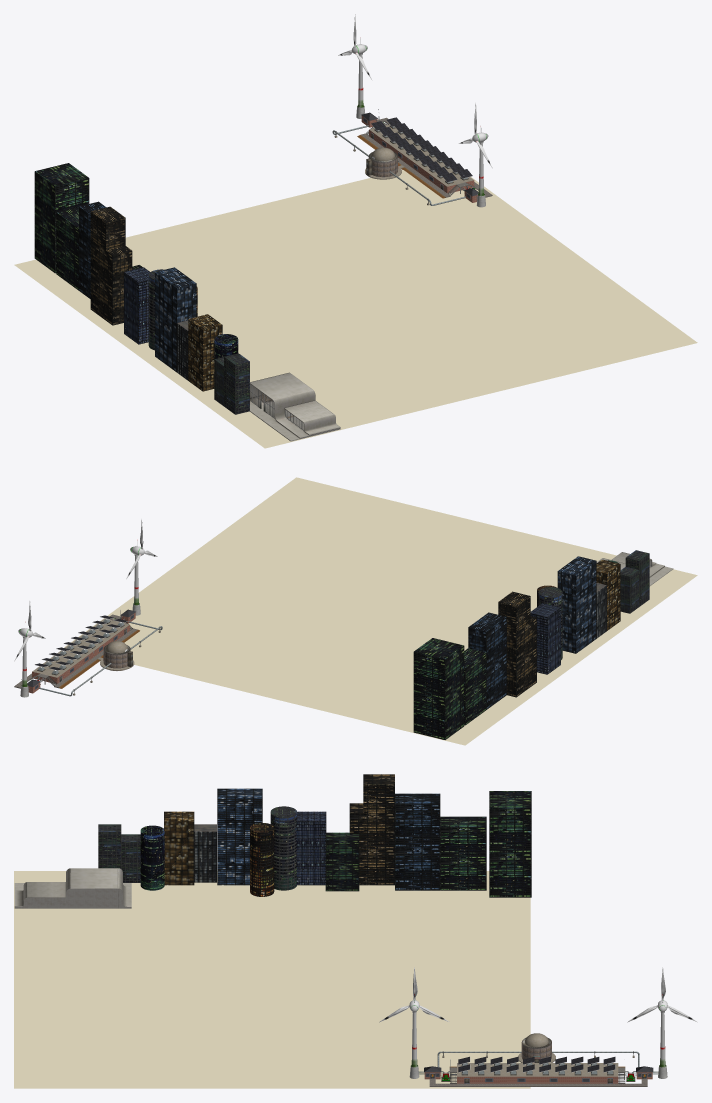
3 views of the same model, one above another, from view 1: azimuth 30°, elevation 25°; view 2: azimuth 150°, elevation 25°; view 3: azimuth 270°, elevation 25° (orthographic). The views are drawn at different scales.
Parts seen in each view (by area): view 1: City 14 Building Dummy large, Terrain 14,9, Terrain 13,8, Terrain 14,8, Terrain 14,10, Terrain 14,11, Terrain 13,9, Terrain 13,10, Terrain 15,9, Terrain 15,8, Terrain 15,10, Terrain 13,11 (+8 smaller); view 2: City 14 Building Dummy large, Terrain 14,11, Terrain 14,9, Terrain 14,8, Terrain 14,10, Terrain 13,11, Terrain 15,8, Terrain 15,9, Terrain 15,10, Terrain 13,8, Terrain 13,9, Terrain 13,10 (+8 smaller); view 3: City 14 Building Dummy large, Terrain 13,10, Terrain 13,8, Terrain 13,9, Terrain 13,11, Terrain 14,8, Terrain 14,9, Terrain 14,10, Terrain 15,8, Terrain 15,9, Terrain 15,10, Terrain 14,11 (+9 smaller).
Part boxes in pixels (left/top/right/bottom): City 14 Building Dummy large: left=34, top=163, right=249, bottom=414; Terrain 14,9: left=357, top=277, right=527, bottom=349; Terrain 13,8: left=311, top=349, right=481, bottom=421; Terrain 14,8: left=420, top=323, right=590, bottom=395; Terrain 14,10: left=294, top=231, right=464, bottom=303; Terrain 14,11: left=231, top=185, right=402, bottom=257; Terrain 13,9: left=248, top=303, right=418, bottom=375; Terrain 13,10: left=195, top=258, right=356, bottom=329; Terrain 15,9: left=466, top=251, right=634, bottom=322; Terrain 15,8: left=528, top=297, right=697, bottom=368; Terrain 15,10: left=403, top=205, right=571, bottom=276; Terrain 13,11: left=125, top=212, right=293, bottom=281; City 14 Building Dummy large: left=413, top=550, right=649, bottom=739; Terrain 14,11: left=163, top=629, right=321, bottom=696; Terrain 14,9: left=279, top=544, right=437, bottom=610; Terrain 14,8: left=338, top=501, right=495, bottom=568; Terrain 14,10: left=221, top=586, right=379, bottom=653; Terrain 13,11: left=264, top=654, right=413, bottom=720; Terrain 15,8: left=238, top=477, right=395, bottom=543; Terrain 15,9: left=180, top=520, right=336, bottom=586; Terrain 15,10: left=122, top=562, right=278, bottom=628; Terrain 13,8: left=438, top=526, right=596, bottom=592; Terrain 13,9: left=380, top=568, right=536, bottom=632; Terrain 13,10: left=322, top=611, right=468, bottom=676; City 14 Building Dummy large: left=98, top=774, right=531, bottom=897; Terrain 13,10: left=272, top=925, right=401, bottom=980; Terrain 13,8: left=14, top=925, right=143, bottom=980; Terrain 13,9: left=143, top=925, right=272, bottom=980; Terrain 13,11: left=401, top=925, right=530, bottom=980; Terrain 14,8: left=14, top=980, right=143, bottom=1034; Terrain 14,9: left=143, top=980, right=272, bottom=1034; Terrain 14,10: left=272, top=980, right=401, bottom=1034; Terrain 15,8: left=14, top=1035, right=143, bottom=1088; Terrain 15,9: left=143, top=1035, right=272, bottom=1088; Terrain 15,10: left=272, top=1035, right=401, bottom=1088; Terrain 14,11: left=401, top=980, right=530, bottom=1034.
Size of what is drawn, in the model's own units: 255 by 60.05 by 339.
99 materials, 89 textured.
